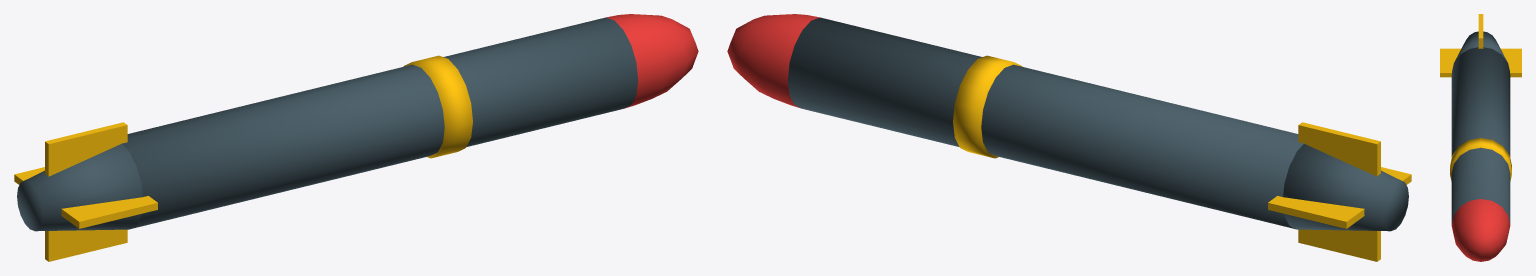
File: Torpedo.glb
3 renders of one model, left to right at view 1: azimuth 30°, elevation 25°; view 2: azimuth 150°, elevation 25°; view 3: azimuth 270°, elevation 25°, orthographic. The views are drawn at different scales.
Visible parts, largest first — view 1: Torpedo; view 2: Torpedo; view 3: Torpedo.
Boxes of the visible parts, x1,y1,x2,y2 form: Torpedo: (14,14,698,261); Torpedo: (727,14,1411,261); Torpedo: (1440,14,1521,261).
Size of the model in its own units: 2.96 by 0.5 by 0.5.
